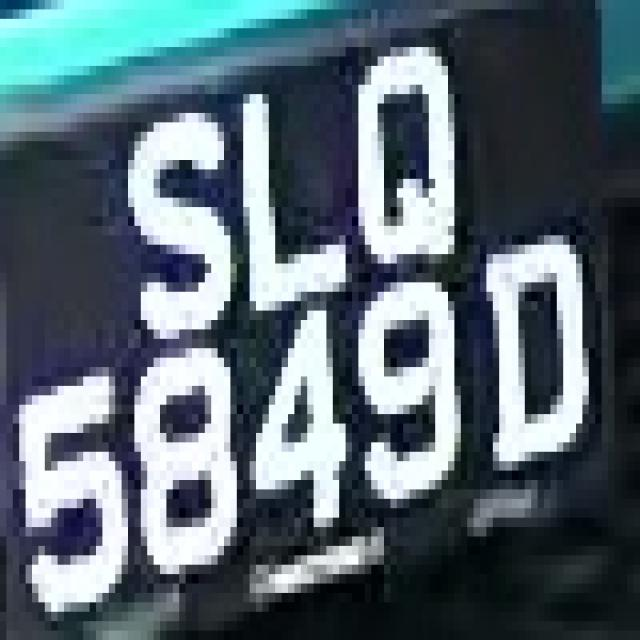4: (224, 292, 365, 518)
5: (20, 339, 134, 593)
8: (121, 320, 262, 584)
9: (339, 254, 467, 518)
D: (454, 170, 480, 217)
L: (230, 66, 340, 301)
Q: (333, 9, 480, 273)
S: (116, 66, 230, 348)
